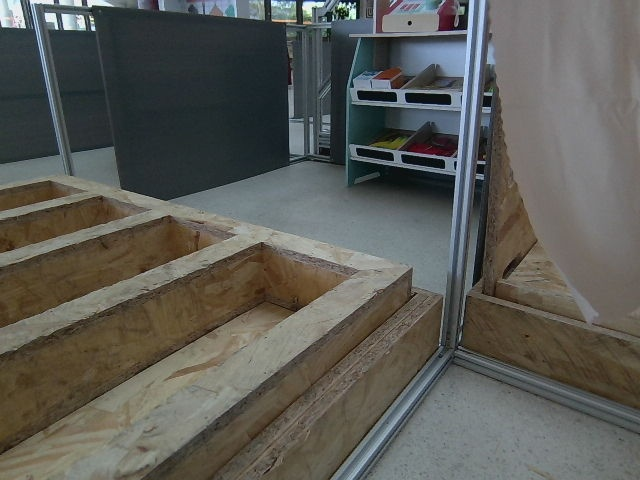curtain: (480, 0, 640, 322)
